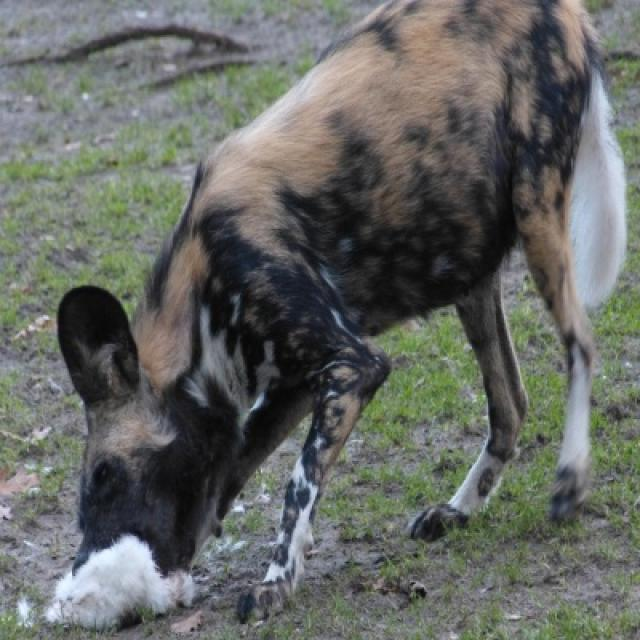hyena: (54, 0, 627, 632)
